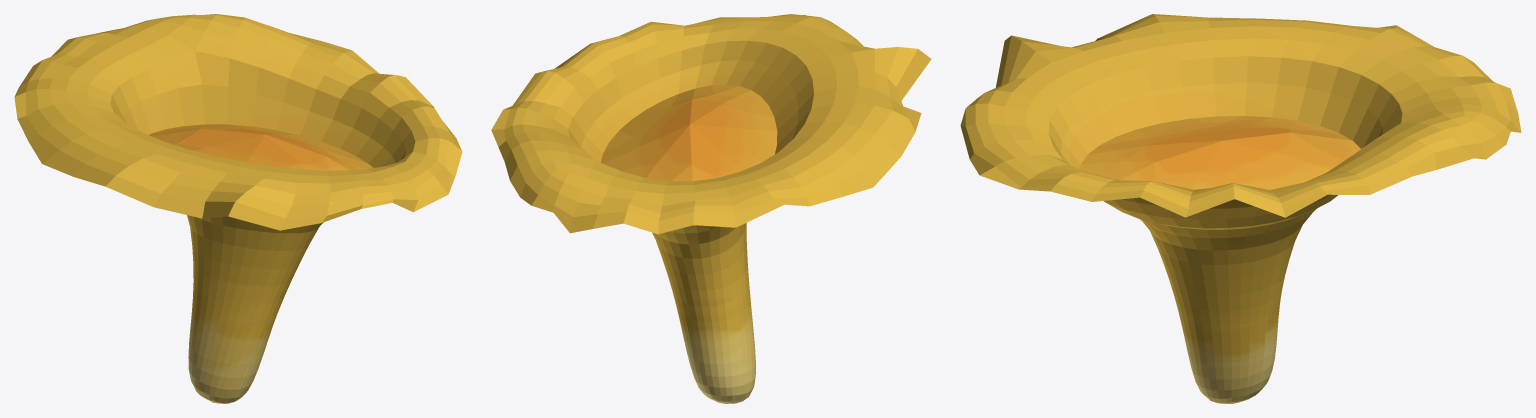
Rendered from chanterelle.glb.
The picture shows the model from 3 angles, left to right: view 1: azimuth 30°, elevation 25°; view 2: azimuth 150°, elevation 25°; view 3: azimuth 270°, elevation 25°; orthographic projection. The views are drawn at different scales.
Visible parts, largest first — view 1: Chanterelle; view 2: Chanterelle; view 3: Chanterelle.
Part boxes in pixels (box(x1,y1,x2,y2)): Chanterelle: box(14, 14, 462, 403); Chanterelle: box(491, 14, 931, 403); Chanterelle: box(960, 14, 1521, 403).
Bounding box in the file's own units: 2.18 × 1.73 × 2.74.
Materials: 1 (1 with a texture image).
